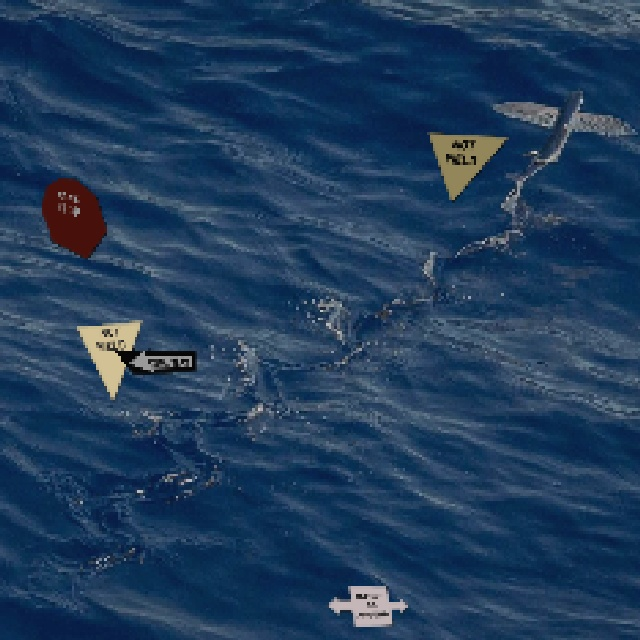DO_NOT_GO_AROUND: (324, 582, 407, 626)
FAKE_STOP: (38, 175, 106, 258)
NOT_YIELD: (425, 130, 508, 202), (73, 319, 141, 402)
ONE_WAY_ left: (112, 347, 195, 373)
